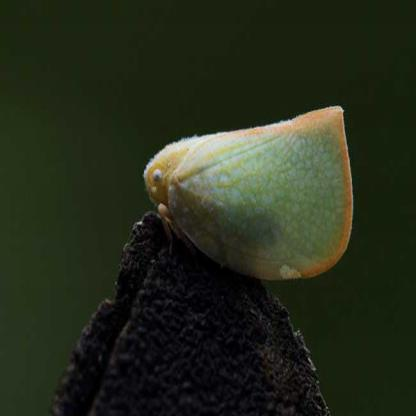Green-Leafhopper: (140, 102, 354, 284)
